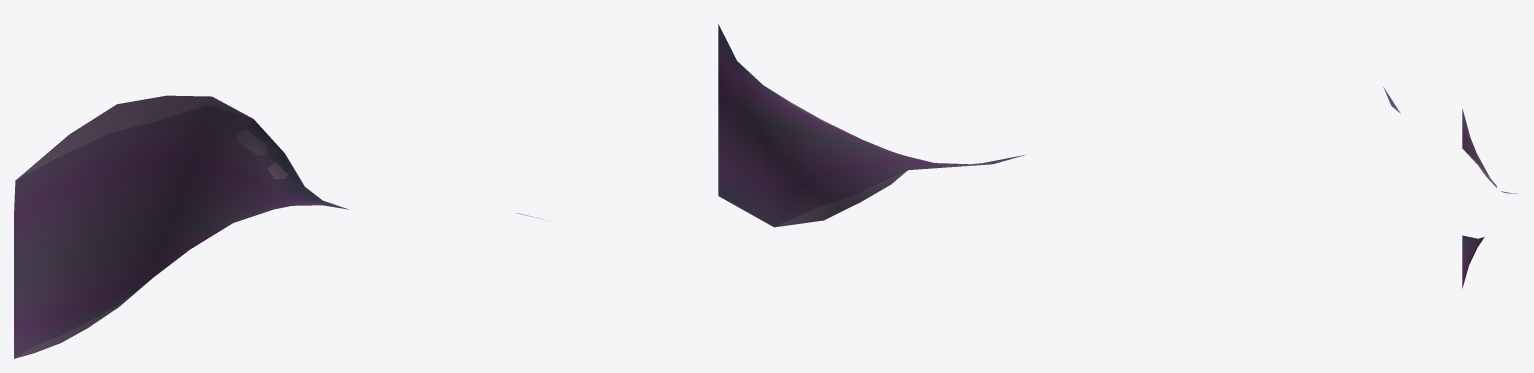
Rendered from WaveWipeWaves_0.glb.
The picture shows the model from 3 angles, left to right: view 1: azimuth 30°, elevation 25°; view 2: azimuth 150°, elevation 25°; view 3: azimuth 270°, elevation 25°; orthographic projection. The views are drawn at different scales.
Visible parts, largest first — view 1: WaveWipeWaves; view 2: WaveWipeWaves; view 3: WaveWipeWaves.
Part boxes in pixels (box(x1,y1,x2,y2)): WaveWipeWaves: box(14, 95, 547, 358); WaveWipeWaves: box(718, 24, 1024, 227); WaveWipeWaves: box(1383, 87, 1517, 288).
Size of the model in its own units: 1.88 by 0.863 by 0.5763.
